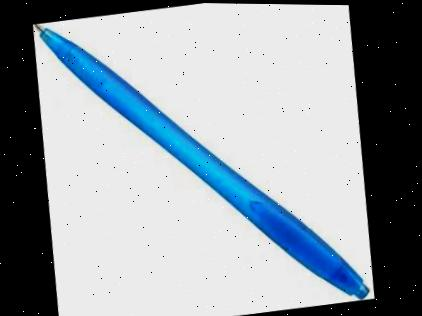pen-pencil: (34, 24, 367, 297)
